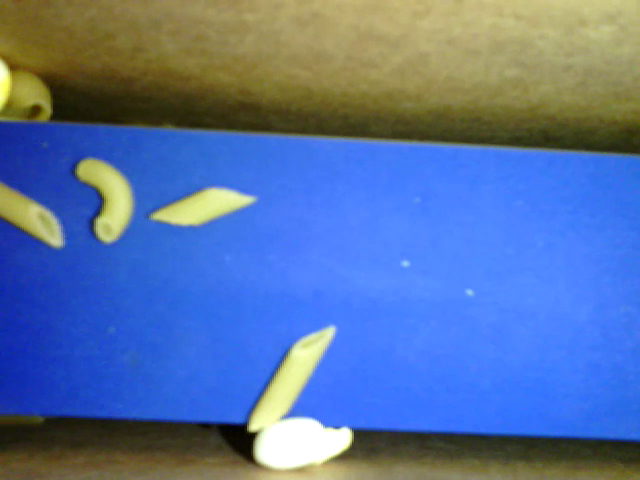elbow: (77, 159, 133, 240)
penne: (248, 319, 339, 433), (149, 185, 258, 229), (1, 185, 64, 249)
shell: (6, 69, 57, 128)
